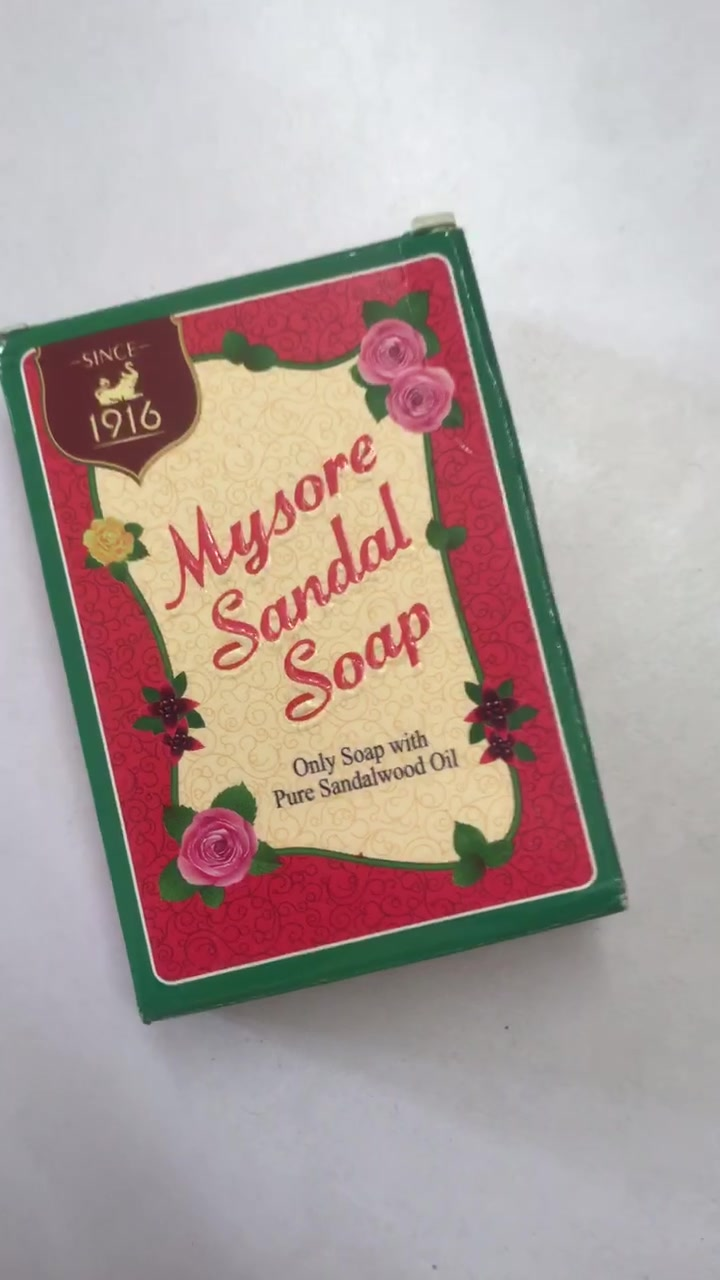mysore sandal soap: (9, 252, 624, 1010)
